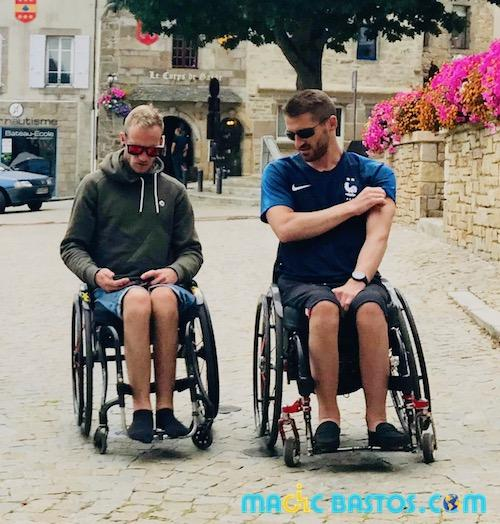crutches: (60, 105, 219, 455)
